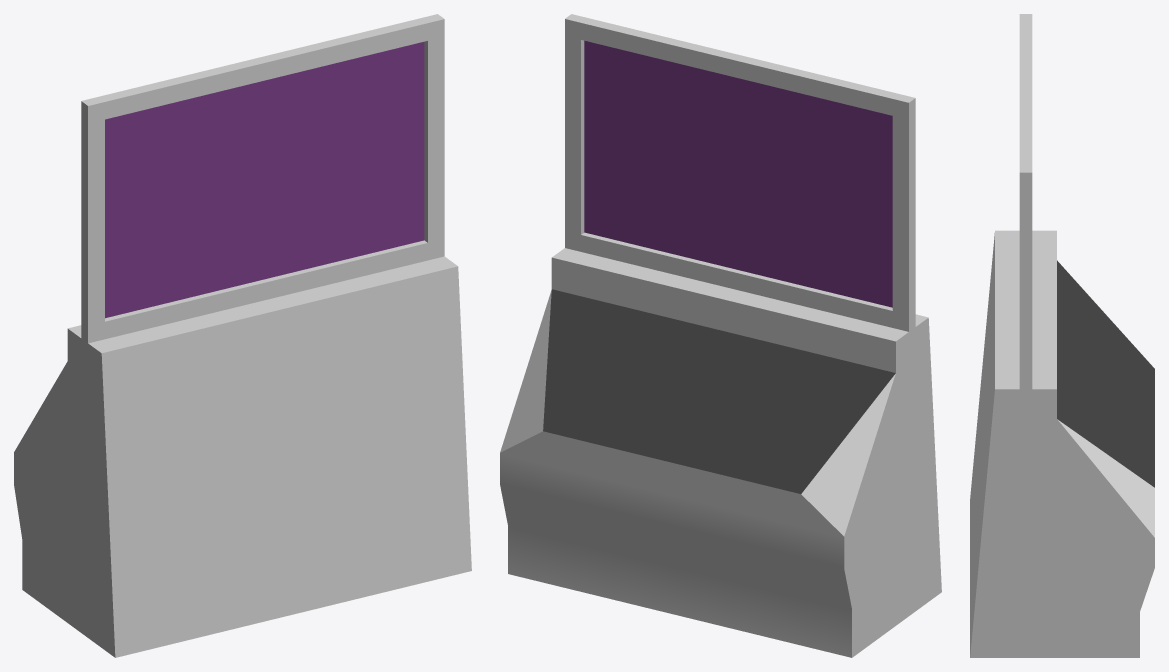
File: consoleScreen.glb
3 views of the same model, side by side, from view 1: azimuth 30°, elevation 25°; view 2: azimuth 150°, elevation 25°; view 3: azimuth 270°, elevation 25° (orthographic). The views are drawn at different scales.
Visible parts, largest first — view 1: consoleScreen; view 2: consoleScreen; view 3: consoleScreen.
Boxes of the visible parts, <box> form: consoleScreen: <box>14,14,471,657</box>; consoleScreen: <box>500,14,941,657</box>; consoleScreen: <box>970,14,1154,657</box>.
Bounding box in the file's own units: 4.56 × 6.5 × 2.24.
